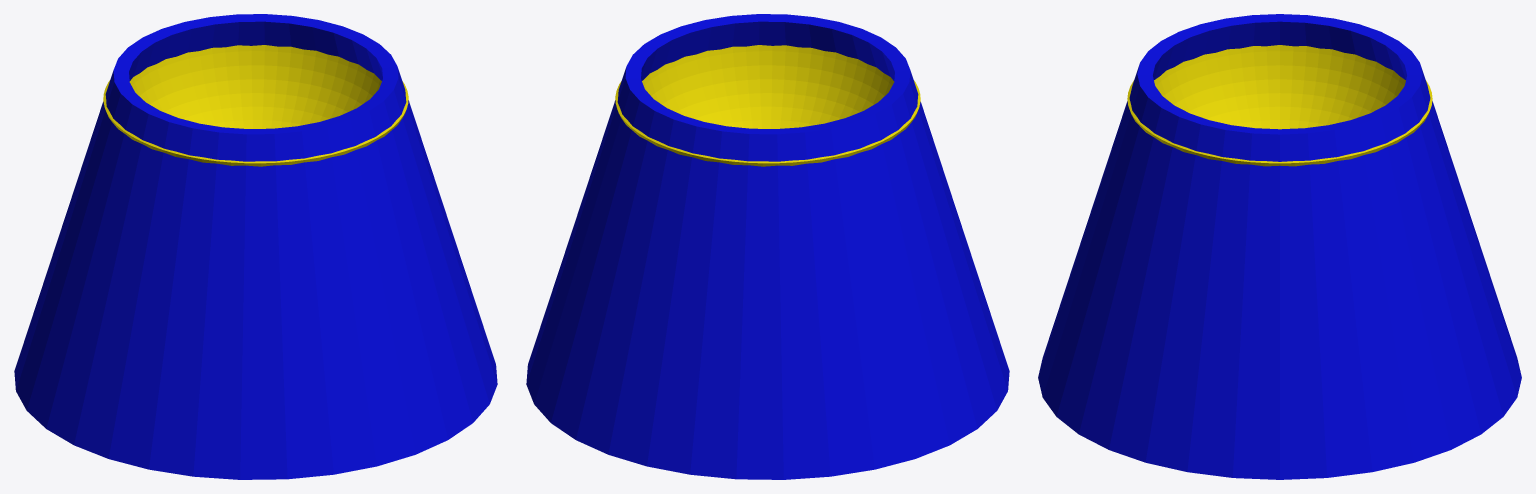
File: Blunted_v1.1.fbx
3 views of the same model, side by side, from view 1: azimuth 30°, elevation 25°; view 2: azimuth 150°, elevation 25°; view 3: azimuth 270°, elevation 25° (orthographic).
Parts seen in each view (by area): view 1: Cylinder, Sphere; view 2: Cylinder, Sphere; view 3: Cylinder, Sphere.
Boxes of the visible parts, x1=… form: Cylinder: x1=14, y1=14, x2=497, y2=479; Sphere: x1=103, y1=45, x2=408, y2=166; Cylinder: x1=526, y1=14, x2=1009, y2=479; Sphere: x1=615, y1=45, x2=920, y2=166; Cylinder: x1=1038, y1=14, x2=1521, y2=479; Sphere: x1=1127, y1=45, x2=1432, y2=166.
Size of the model in its own units: 84.01 by 58.12 by 84.01.
